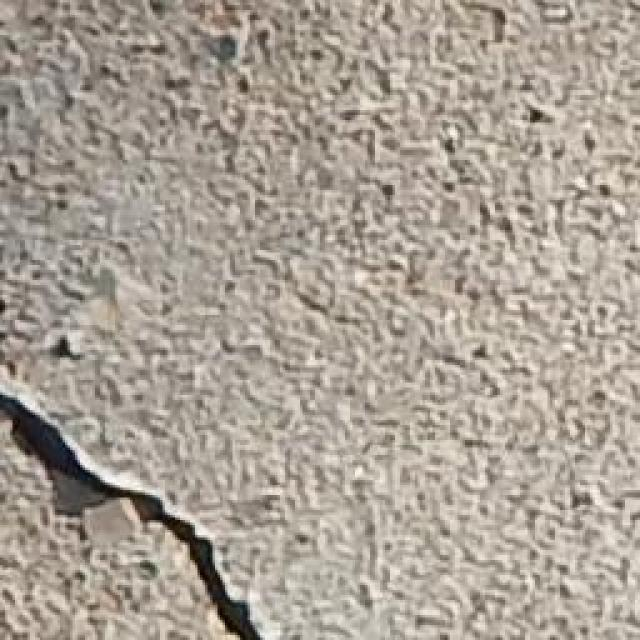concrete-crack: (0, 383, 270, 640)
